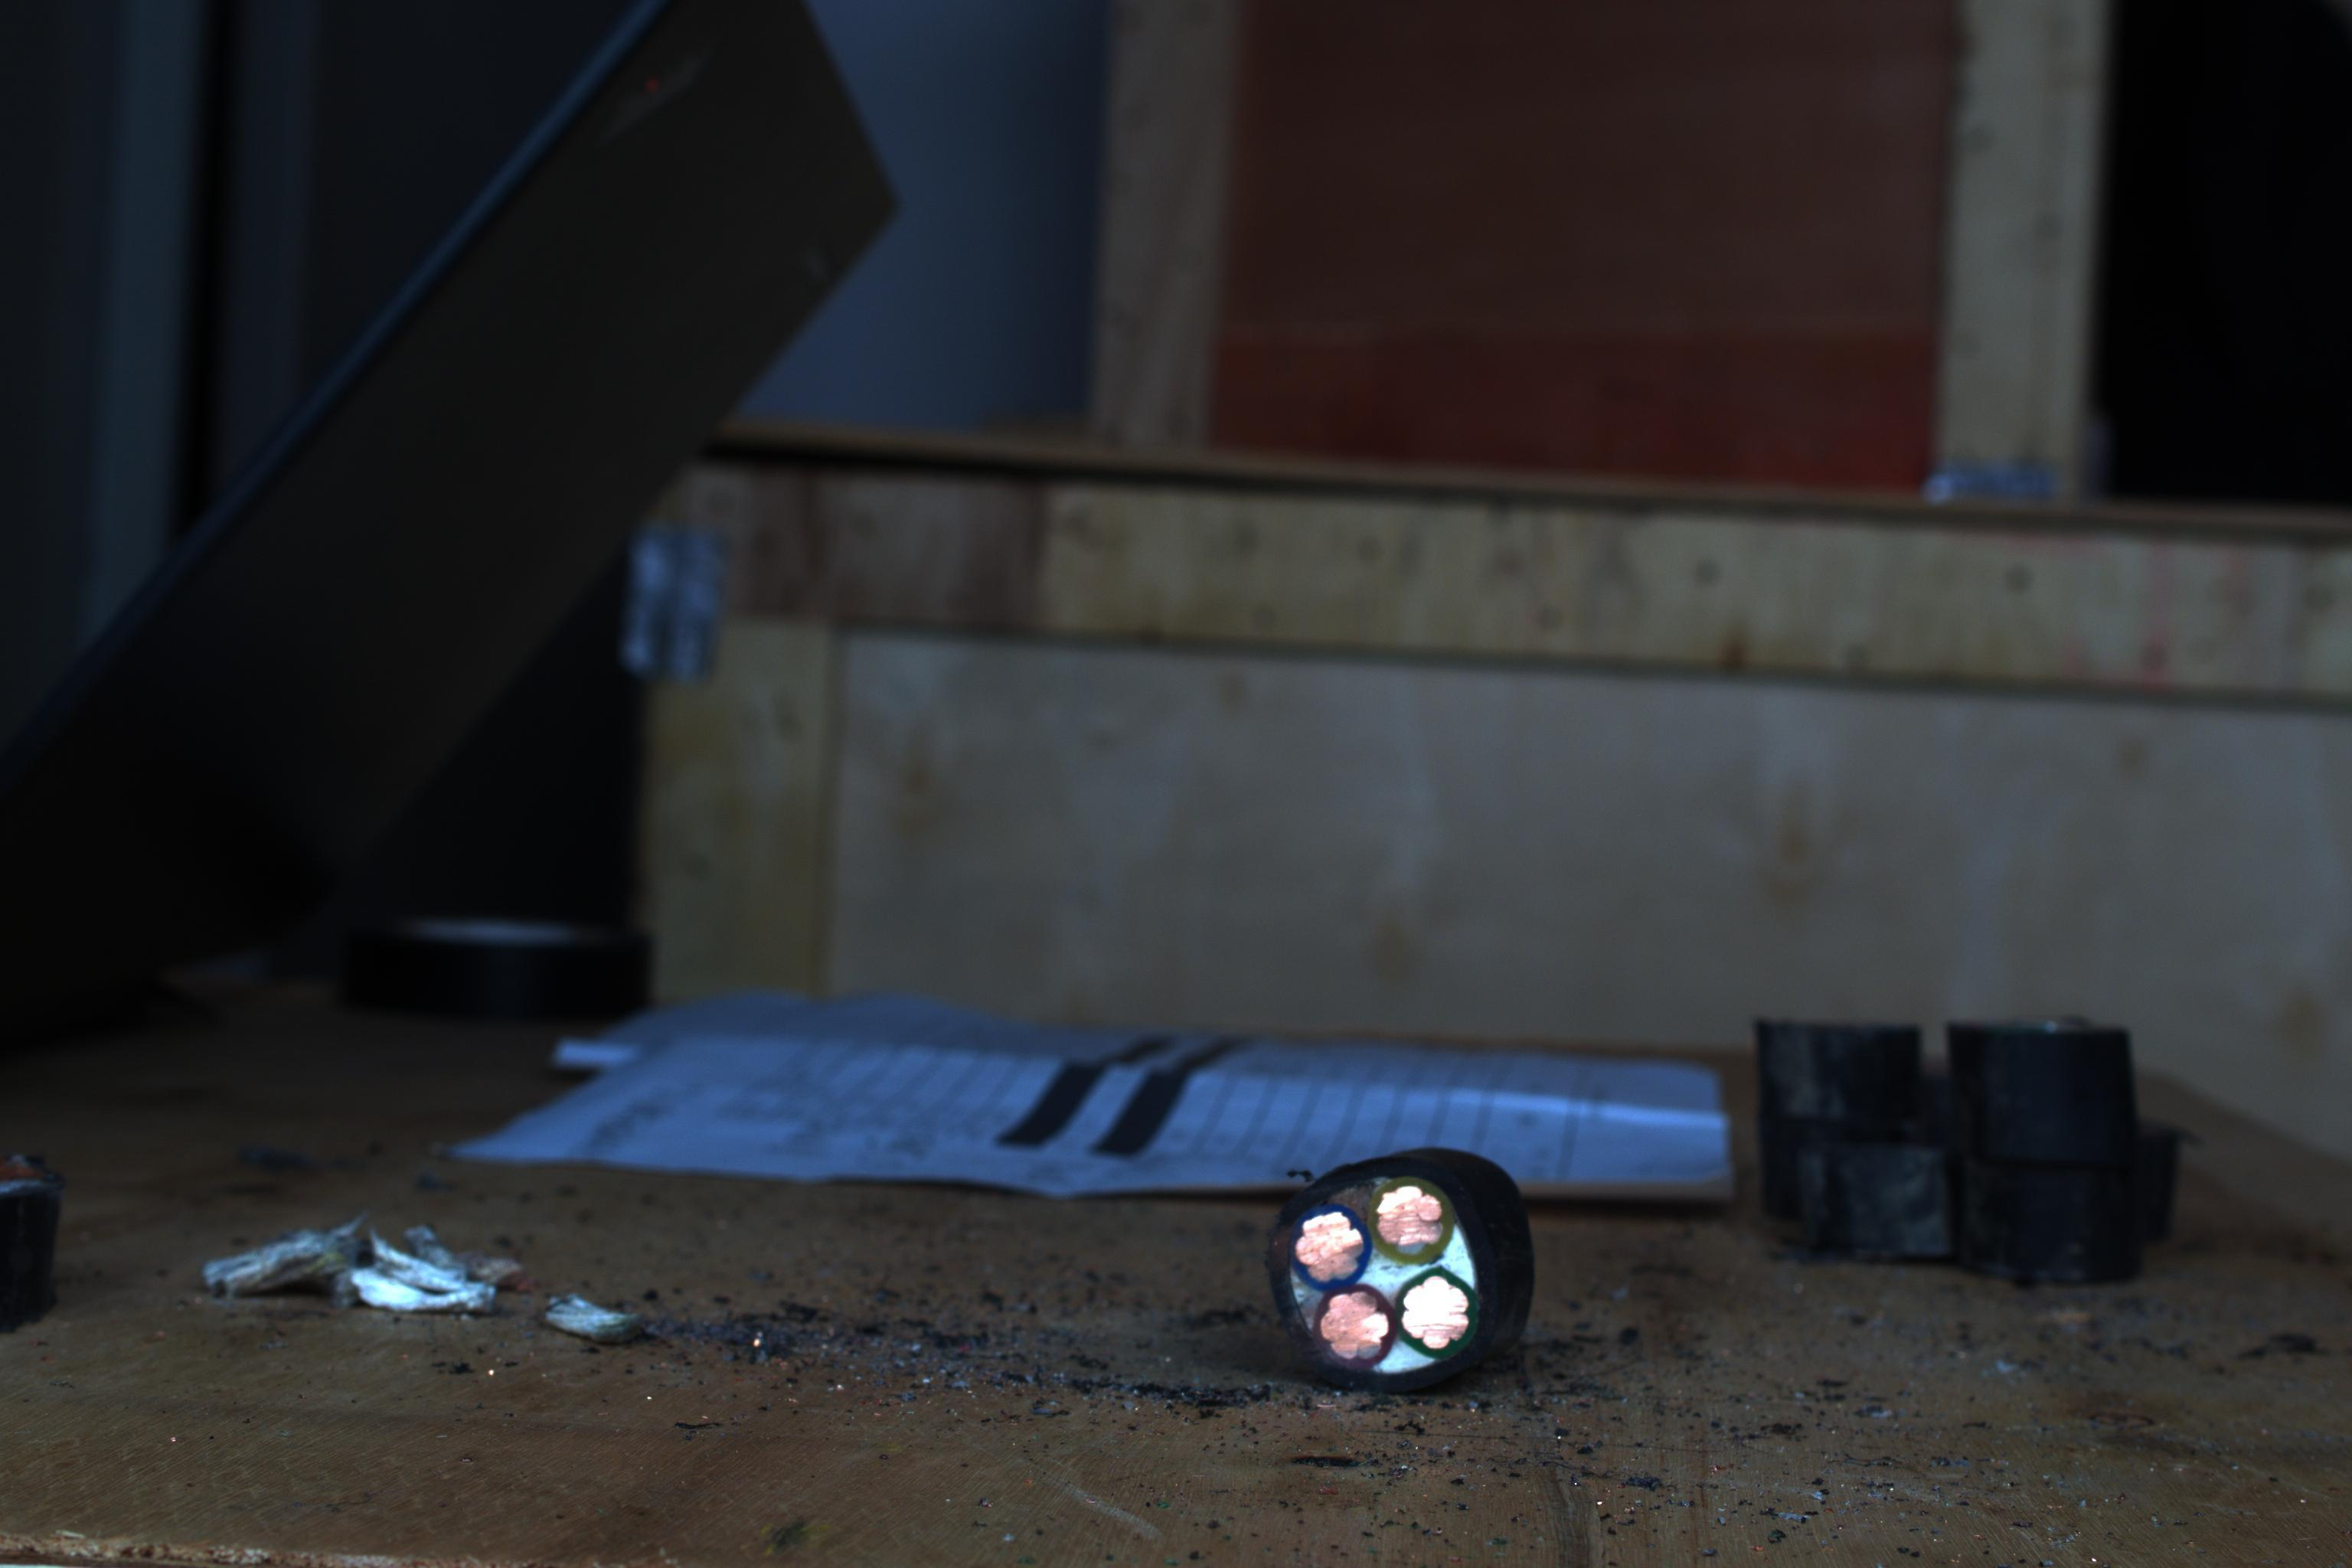YJV_0.6_1kV_4x35: (1249, 1158, 1524, 1398)
